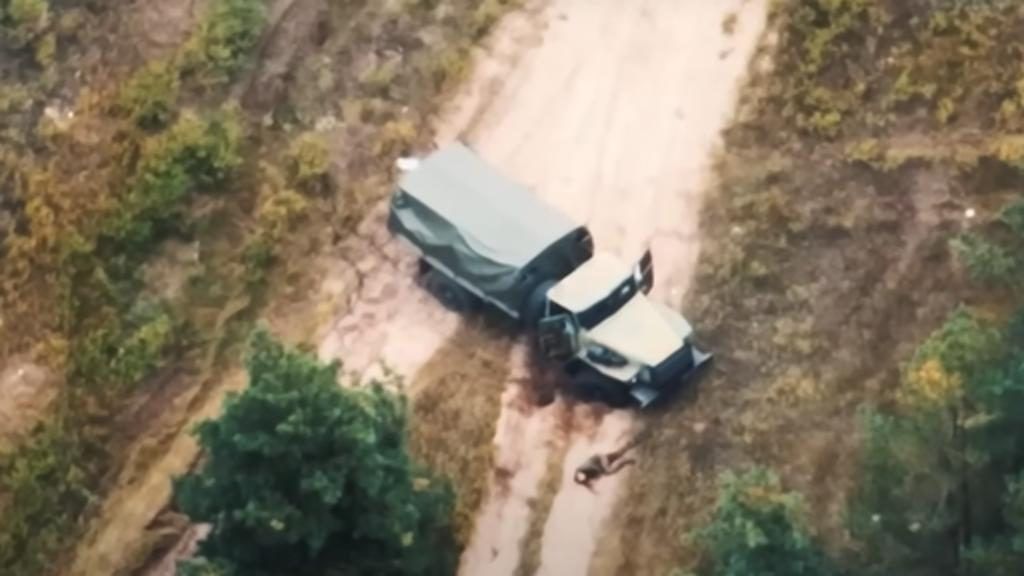TRUCK: (376, 118, 726, 424)
